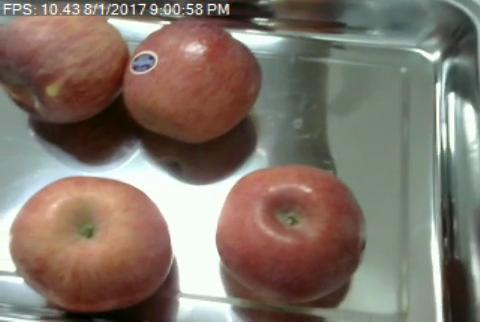apple: (10, 176, 173, 312), (215, 165, 367, 305), (128, 19, 264, 143), (0, 16, 123, 121)
